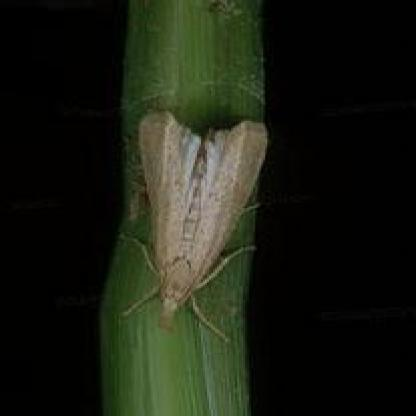stem-borer: (130, 108, 247, 332)
